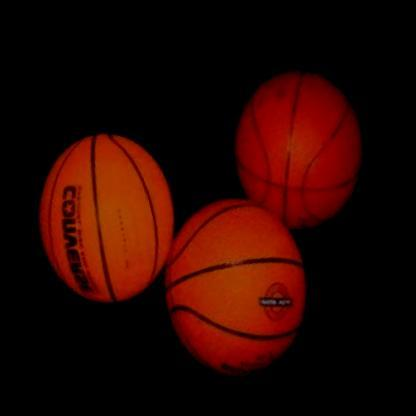basketball: (133, 173, 354, 400), (4, 109, 216, 325), (198, 47, 403, 250)
